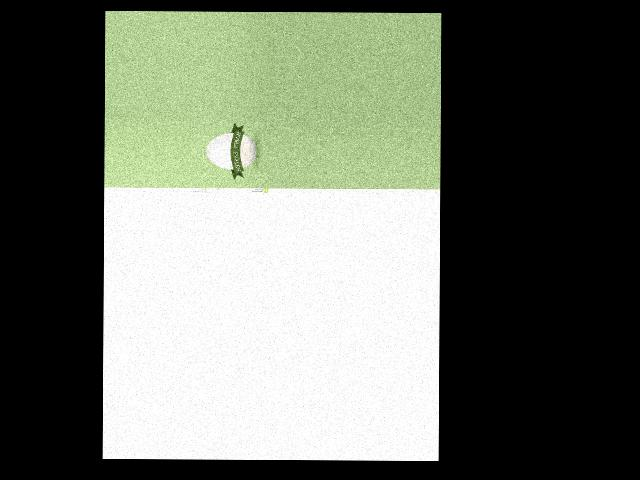egg: (206, 133, 256, 170)
